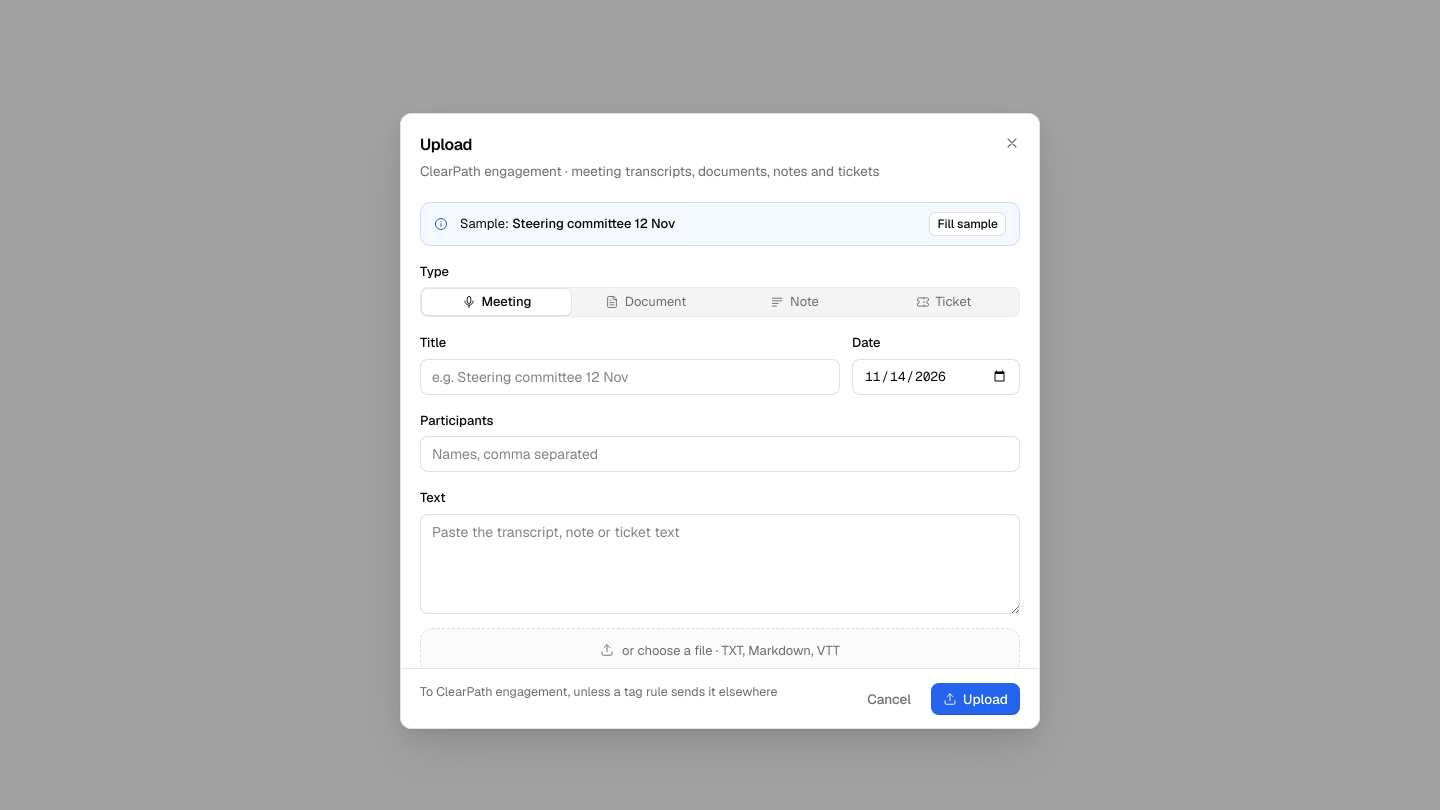
Test: UploadDialog › the sample › clears the errors of a form that was refused
Click the button "Upload" at (976,699), box [931,683,1020,715]
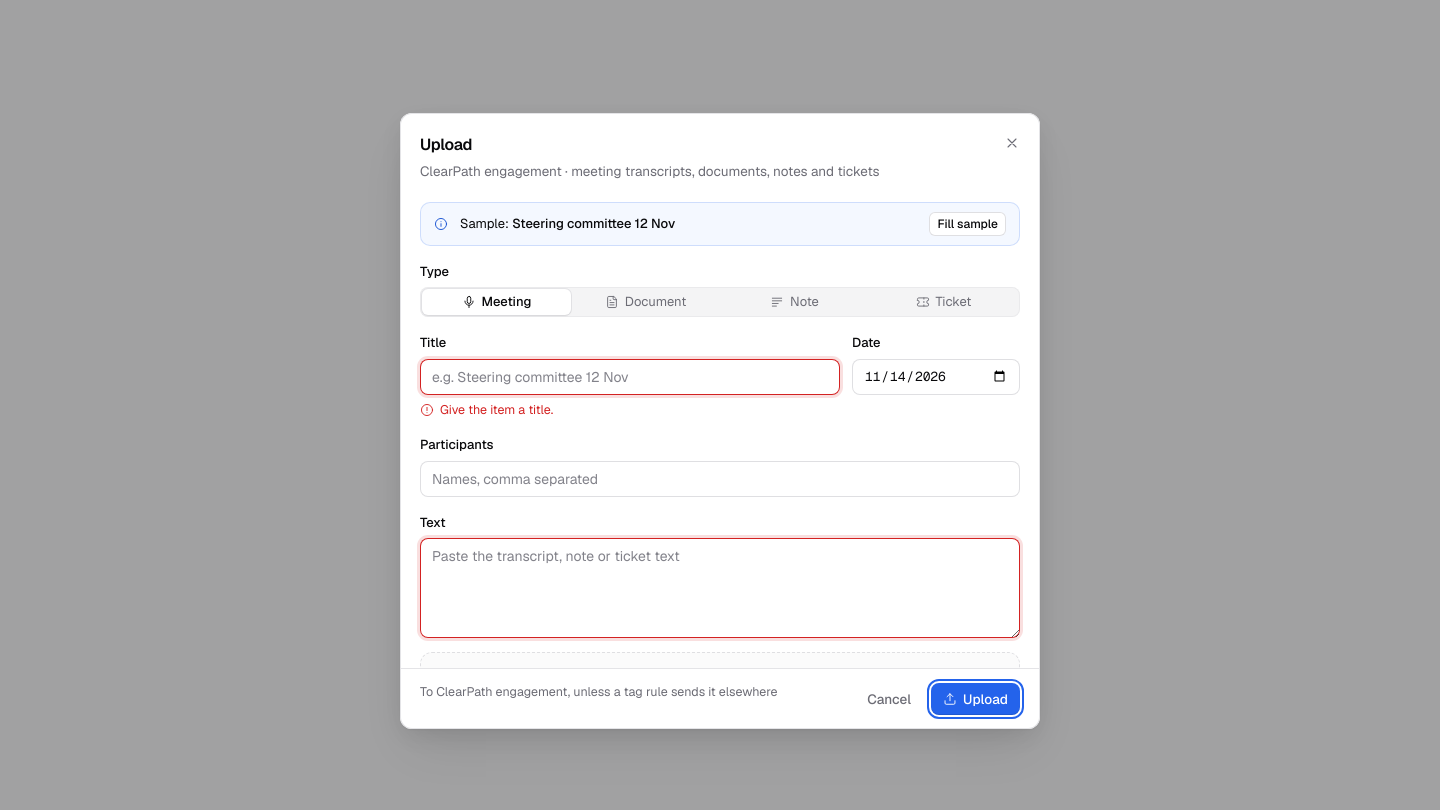
expect the text "Give the item a title." is shown: met, box [420,401,553,418]
Click the button "Fill sample" at (968,224), box [930,212,1006,236]
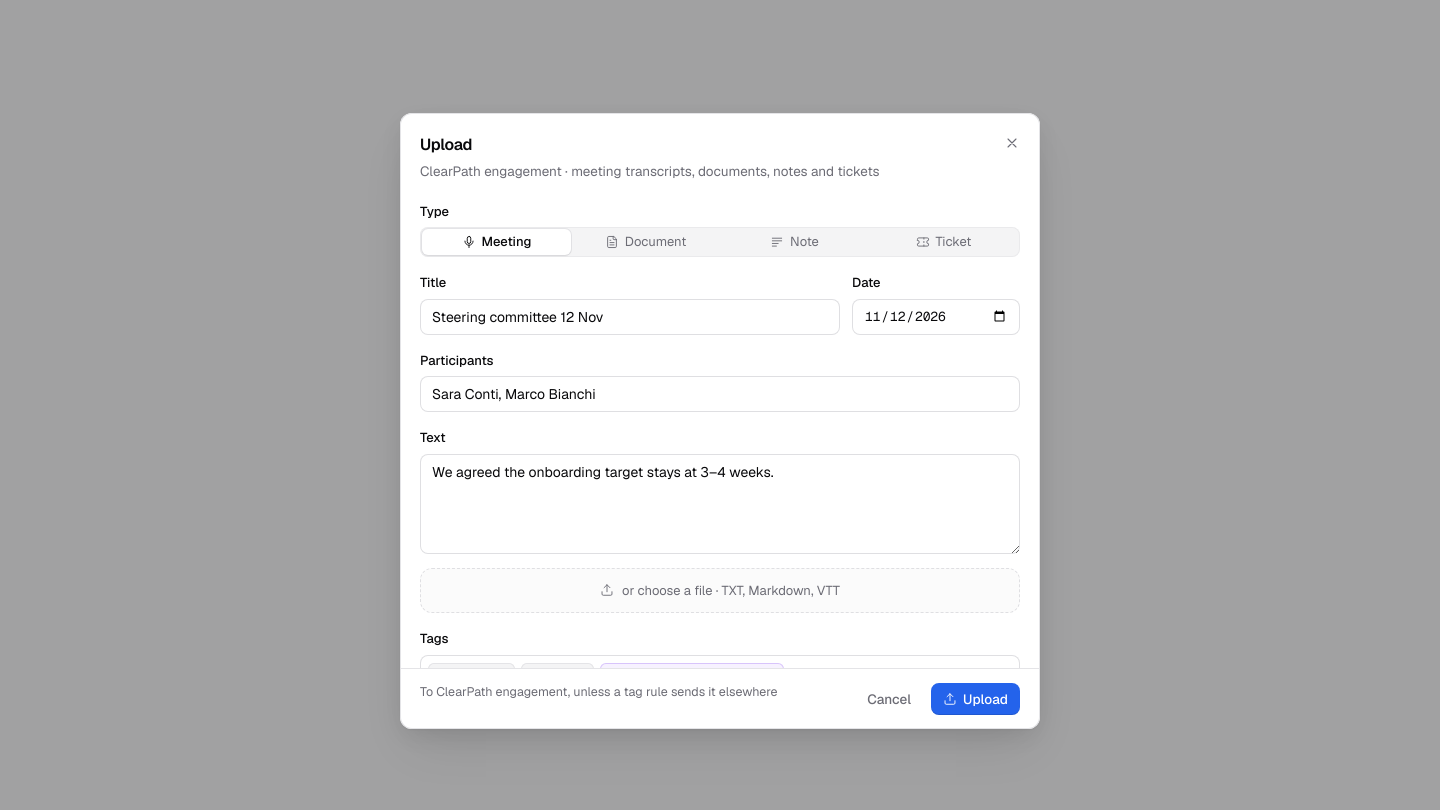
expect the text "Paste the text or choose a file." is not shown: met
expect the text "Give the item a title." is gone: met
